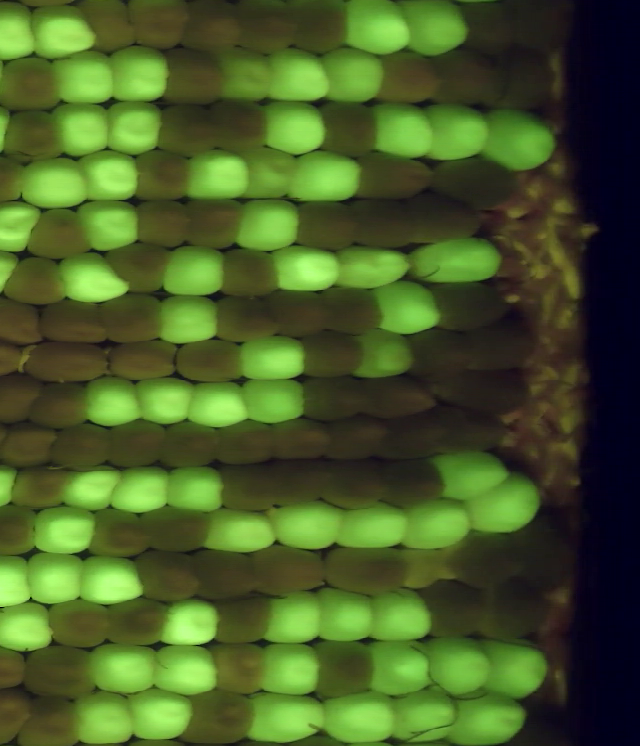fluorescent: (473, 101, 565, 176), (458, 470, 548, 539), (408, 233, 514, 291), (478, 630, 558, 706), (426, 445, 518, 510), (239, 684, 333, 746), (53, 245, 141, 308), (257, 92, 337, 160), (416, 98, 499, 163), (86, 635, 169, 700), (442, 688, 535, 746), (283, 147, 368, 210), (425, 632, 499, 704), (105, 41, 180, 112), (392, 495, 482, 554), (266, 495, 351, 557), (381, 683, 464, 746), (319, 40, 393, 110), (393, 1, 476, 63), (227, 193, 308, 256), (365, 96, 443, 161), (318, 685, 401, 746), (259, 44, 339, 107), (267, 240, 352, 299), (179, 145, 261, 205), (364, 633, 436, 701), (328, 240, 417, 295), (157, 240, 237, 301), (362, 584, 438, 648), (26, 1, 103, 64), (195, 503, 283, 558), (340, 1, 423, 59), (16, 152, 97, 211), (144, 640, 223, 700), (27, 500, 103, 562), (327, 499, 414, 553), (103, 94, 172, 162), (234, 142, 306, 207), (73, 550, 151, 610), (248, 636, 321, 700), (373, 276, 450, 336), (229, 330, 313, 385), (150, 287, 225, 348), (125, 685, 200, 746), (52, 45, 122, 110), (75, 145, 147, 208), (258, 586, 327, 651), (213, 41, 280, 107), (69, 685, 141, 746), (155, 590, 228, 650), (130, 371, 204, 430), (161, 460, 235, 519), (313, 582, 379, 648), (70, 196, 145, 254), (20, 548, 93, 607), (74, 372, 148, 429), (180, 376, 254, 432), (236, 375, 312, 428), (53, 98, 115, 160), (356, 326, 420, 385), (60, 461, 128, 514), (0, 598, 59, 658), (106, 459, 175, 510), (0, 196, 51, 258), (0, 545, 44, 610), (0, 1, 42, 63)
nonfluorescent: (417, 575, 493, 654), (488, 40, 561, 121), (433, 364, 538, 420), (426, 153, 527, 210), (450, 526, 533, 594), (457, 312, 543, 377), (346, 147, 442, 205), (309, 636, 388, 705), (423, 42, 503, 110), (506, 516, 577, 592), (423, 278, 514, 337), (175, 685, 263, 746), (152, 44, 232, 111), (399, 189, 485, 251), (22, 640, 105, 704), (323, 542, 417, 598), (343, 190, 423, 255), (248, 541, 335, 600), (188, 542, 269, 605), (479, 577, 554, 645), (371, 451, 453, 513), (88, 286, 174, 345), (296, 370, 383, 426), (99, 239, 178, 300), (313, 97, 386, 163), (399, 326, 483, 383), (22, 336, 114, 388), (353, 370, 443, 423), (378, 41, 448, 109), (316, 455, 398, 513), (205, 292, 288, 349), (173, 1, 253, 60), (261, 285, 339, 345), (433, 400, 515, 457), (294, 327, 376, 384), (180, 192, 253, 256), (43, 592, 118, 654), (313, 282, 393, 340), (131, 545, 208, 605), (68, 1, 146, 60), (203, 640, 278, 701), (295, 193, 366, 256), (0, 250, 74, 310), (378, 405, 457, 461), (0, 50, 69, 114), (36, 295, 116, 350), (129, 145, 198, 208), (215, 458, 288, 517), (21, 204, 94, 263), (230, 1, 303, 60), (103, 415, 174, 475), (128, 195, 199, 255), (216, 245, 290, 302), (206, 95, 276, 155), (85, 501, 156, 560), (148, 100, 219, 159), (121, 1, 197, 56), (50, 417, 123, 474), (15, 690, 89, 746), (158, 415, 227, 475), (265, 456, 343, 509), (507, 1, 582, 56), (103, 336, 185, 386), (25, 375, 93, 435), (100, 594, 173, 649), (0, 107, 68, 166), (210, 414, 281, 470), (171, 333, 244, 386), (3, 461, 77, 513), (213, 590, 278, 649), (288, 1, 354, 59), (323, 412, 398, 463), (268, 412, 338, 465), (461, 1, 523, 60), (0, 417, 64, 474), (0, 290, 53, 352), (0, 369, 48, 426), (0, 501, 43, 561), (0, 684, 40, 746), (0, 639, 33, 695), (0, 151, 32, 208), (0, 330, 31, 385)
